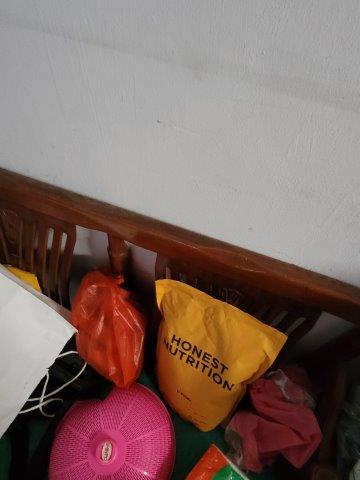plastik: (73, 273, 148, 390)
